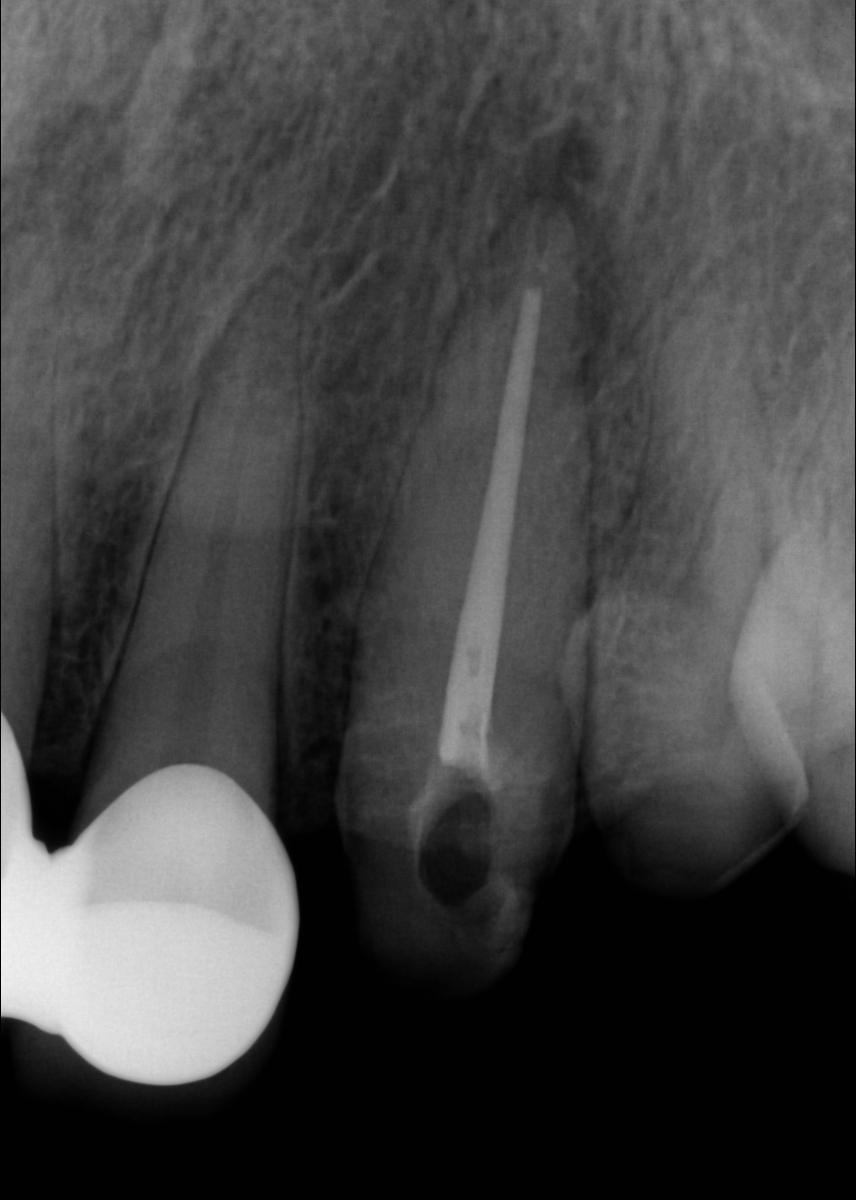Furcation Involvement: (523, 122, 622, 392)
